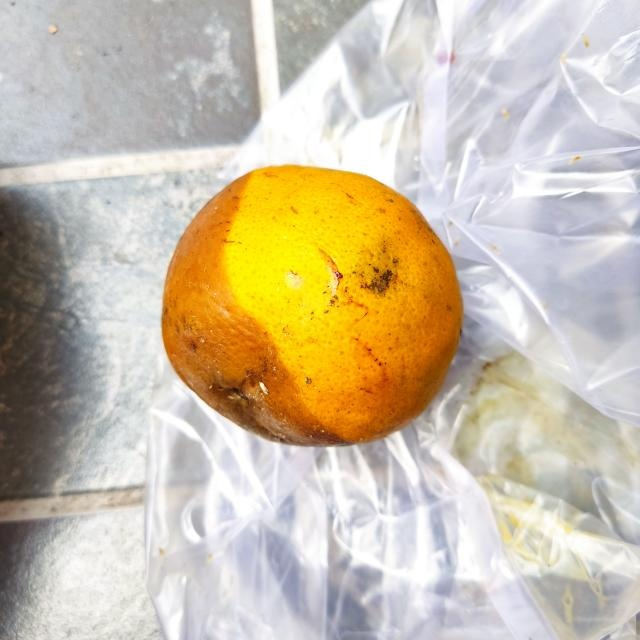agrume: (160, 162, 467, 449)
